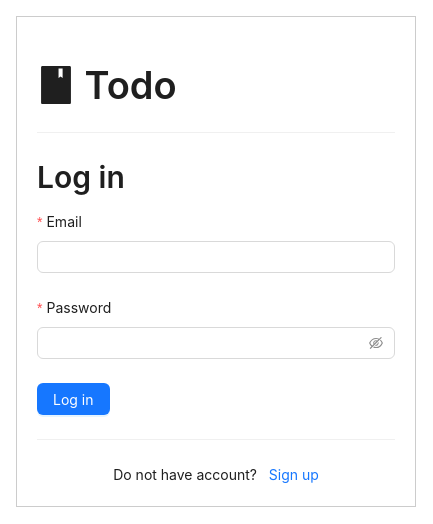
Login › login with empty form
Click the button "Log in". click: {"x": 73, "y": 399}
box: [37,383,110,415]
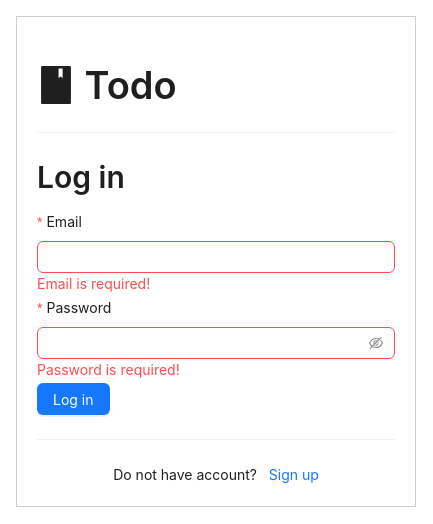
Expected: the text "Email is required!" is shown, [37,275,150,292]
Expected: the text "Password is required!" is shown, [37,361,180,378]
